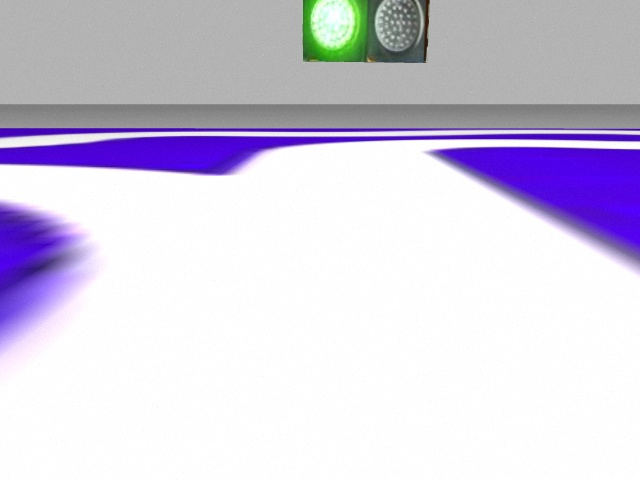green: (303, 2, 366, 61)
